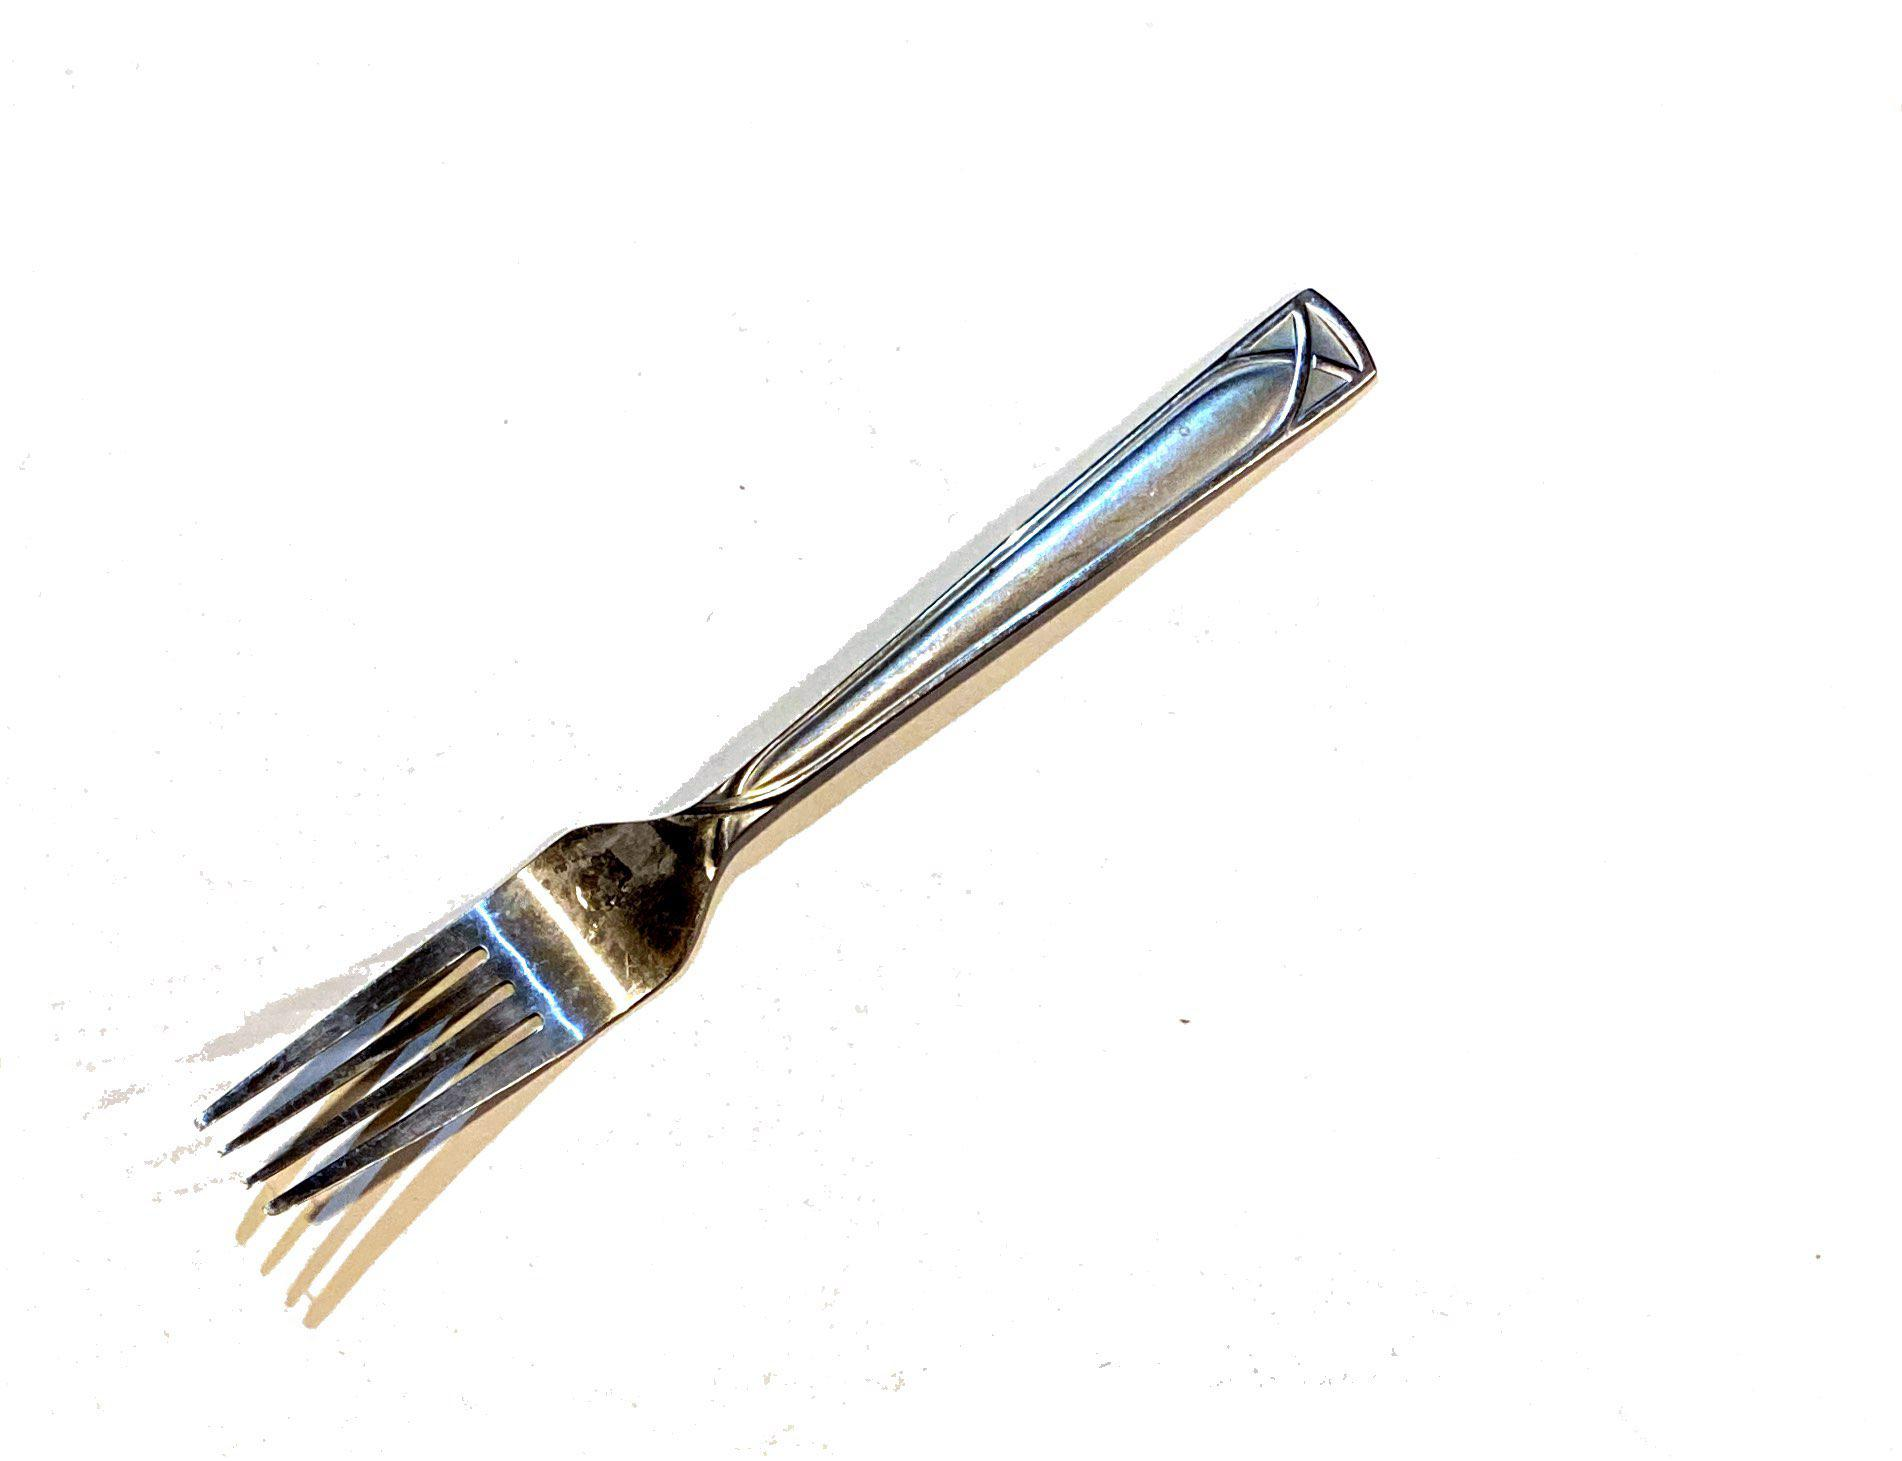Fork: (189, 212, 1437, 1324)
